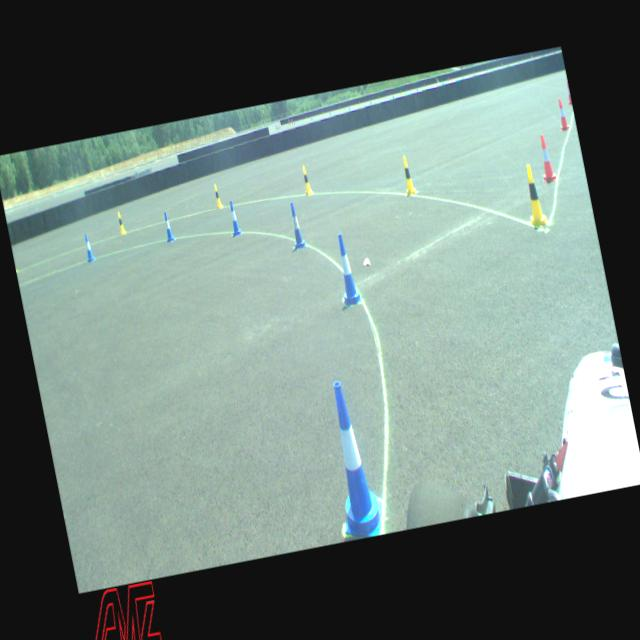blue_cone: (318, 378, 388, 540), (332, 232, 362, 306), (287, 202, 306, 248), (227, 200, 242, 236), (161, 212, 175, 242), (83, 232, 96, 262)
orange_cone: (536, 134, 557, 182), (556, 98, 570, 130), (564, 82, 572, 105)
yellow_cone: (520, 162, 548, 228), (400, 156, 416, 196), (300, 165, 313, 195), (212, 183, 224, 208), (117, 211, 127, 235)
